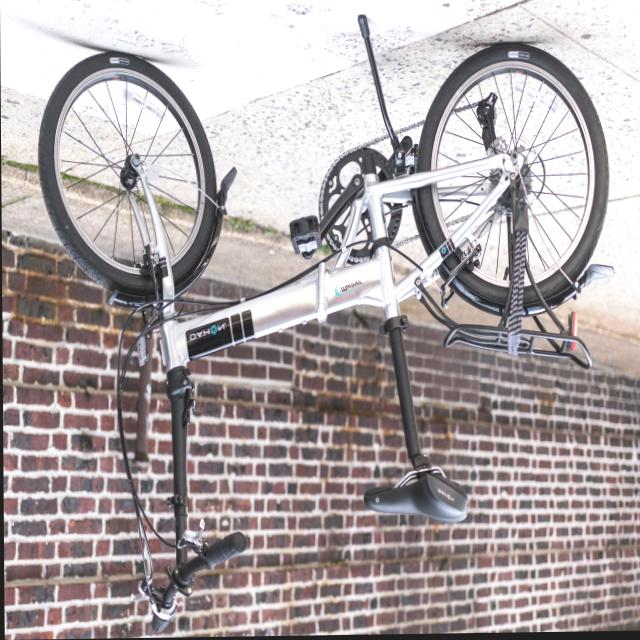folding-bike: (34, 10, 616, 637)
